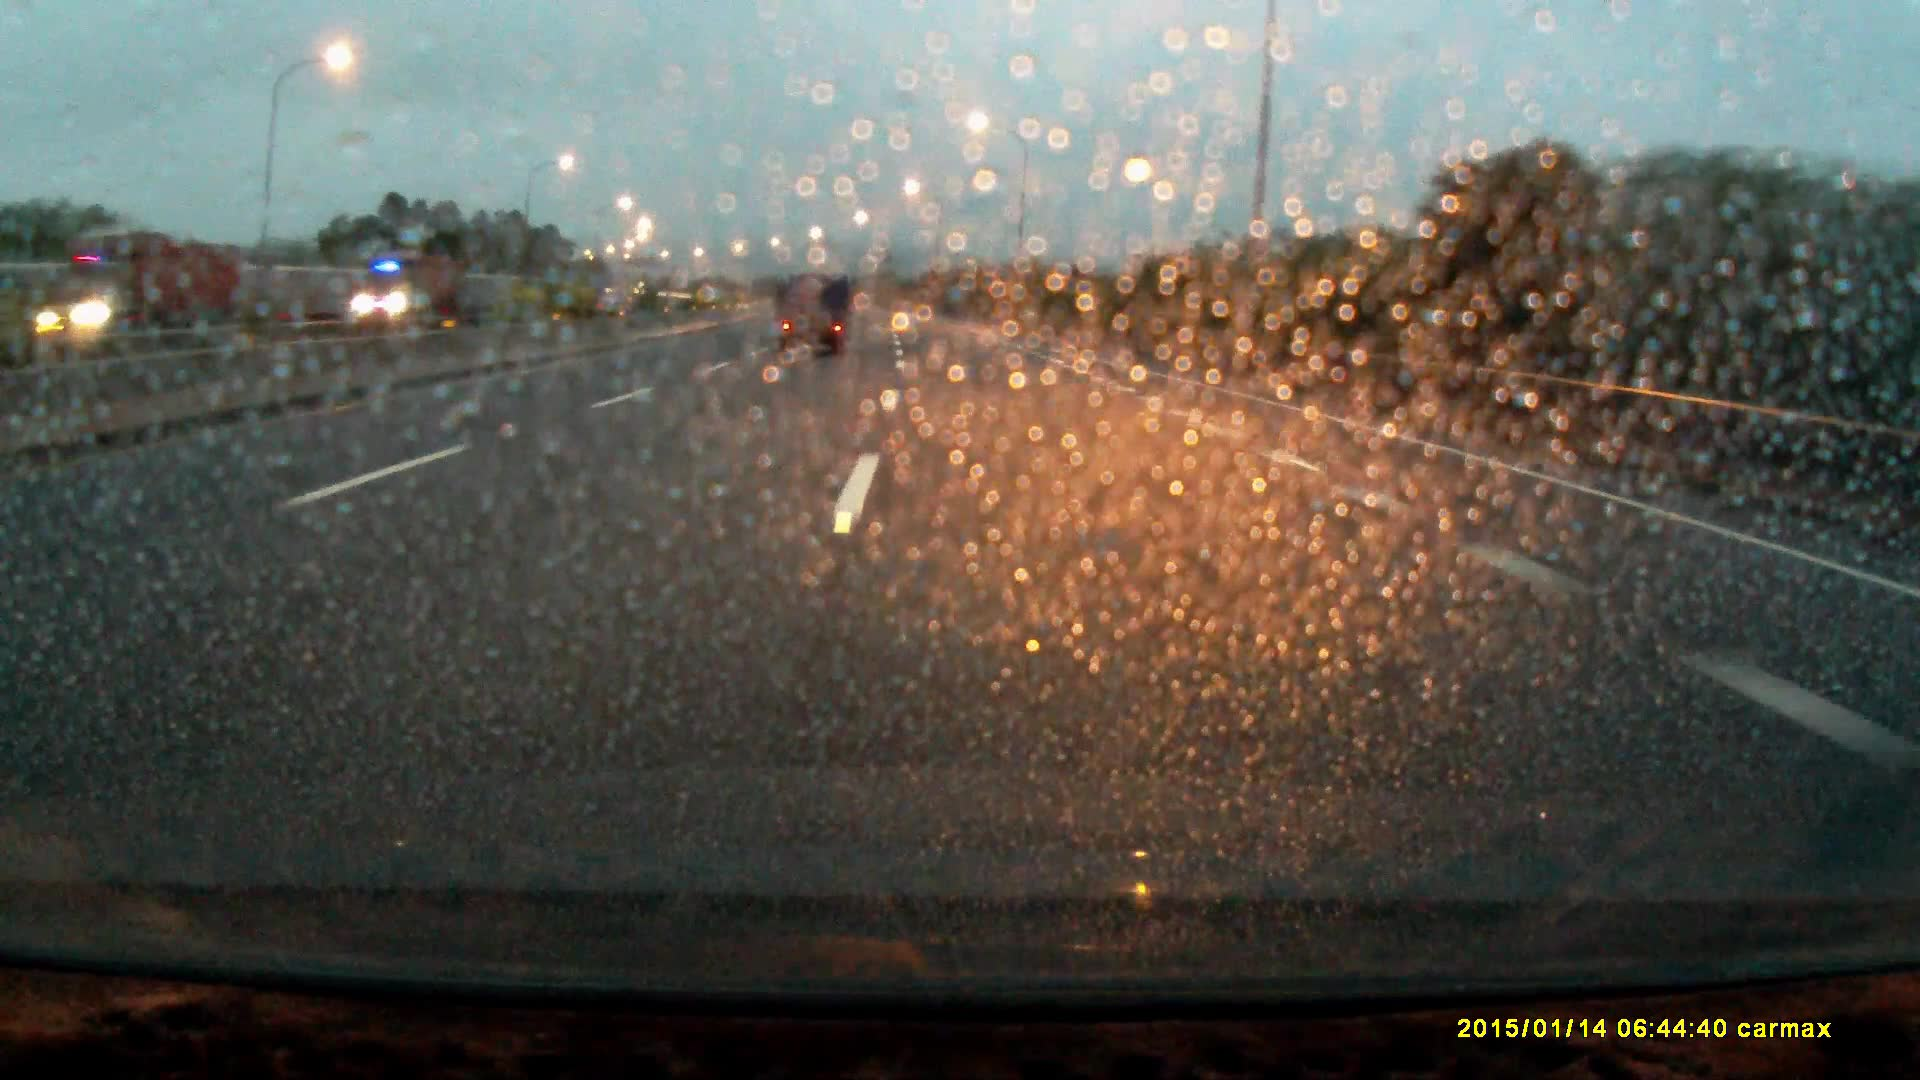vehicle: (34, 235, 236, 335), (349, 253, 463, 320), (773, 274, 853, 361)
